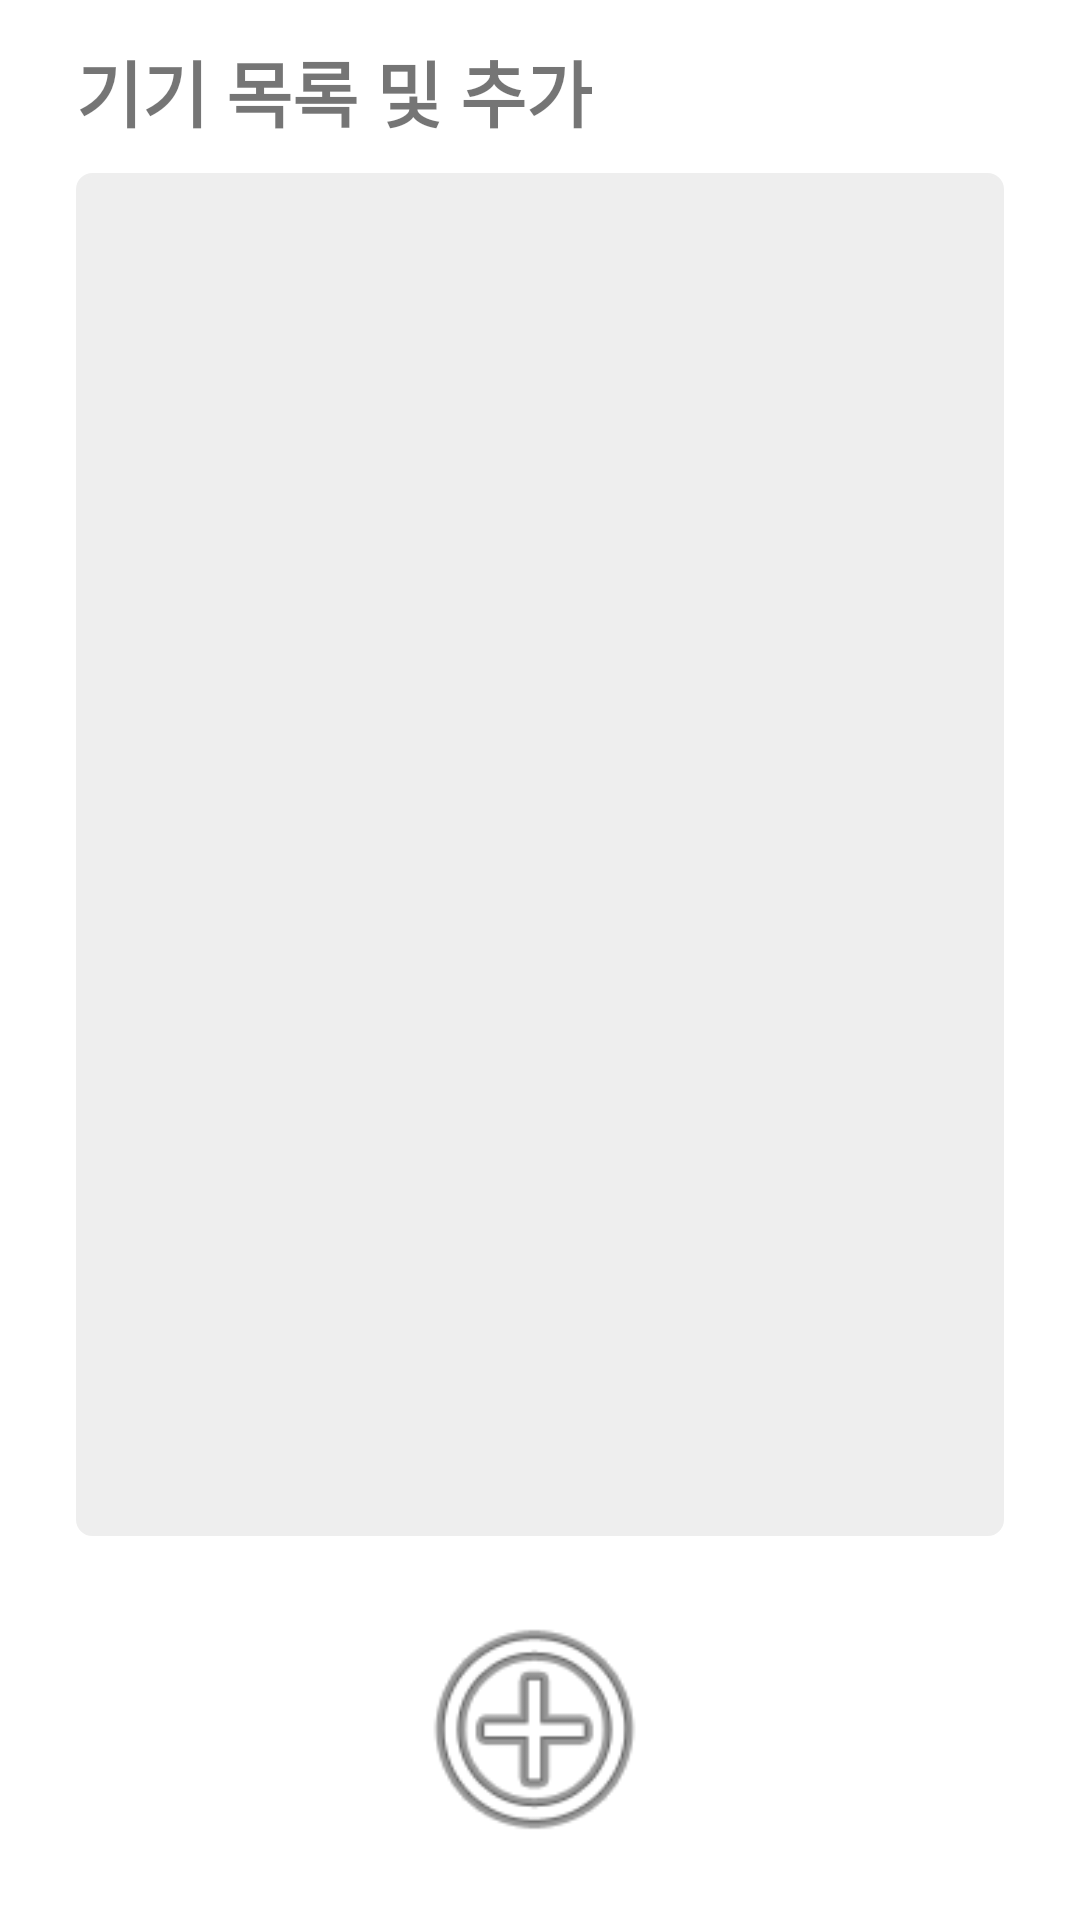

Locate icon controls on the screen. Image size 1080×1920, boxes as (x1, y1, x2, y2).
add: (435, 1630, 634, 1829)
